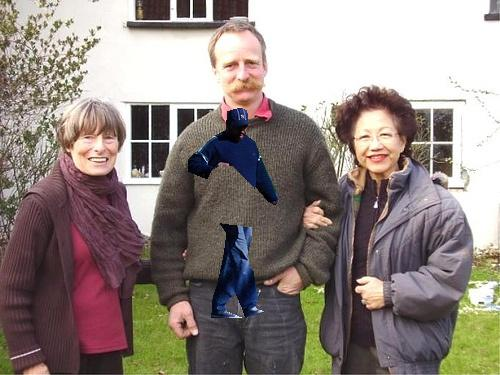tampered: (189, 109, 278, 318)
